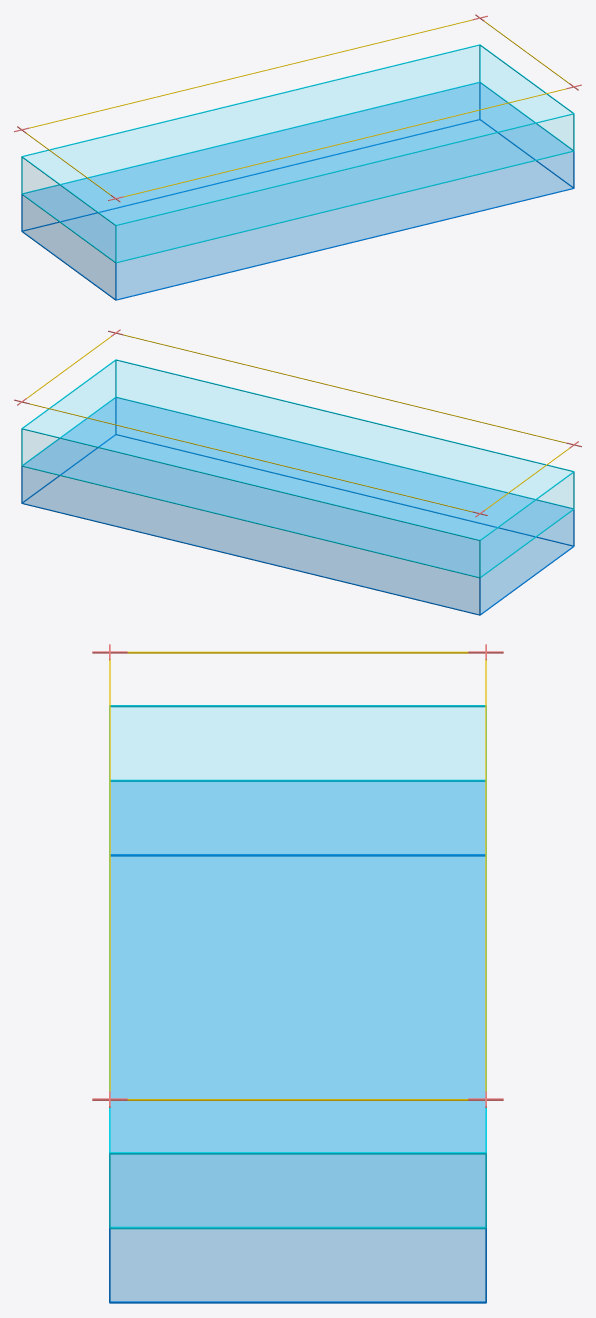
Rendered from underground_45x16_marker.glb.
3 views of the same model, one above another, from view 1: azimuth 30°, elevation 25°; view 2: azimuth 150°, elevation 25°; view 3: azimuth 270°, elevation 25° (orthographic). The views are drawn at different scales.
Parts seen in each view (by area): view 1: lower_volume, upper_volume, upper_frame_x_3, upper_frame_x_1, upper_frame_x_2, lower_frame_x_1, upper_frame_x_0, lower_frame_x_0, ground_south, ground_north; view 2: lower_volume, upper_volume, upper_frame_x_2, upper_frame_x_0, upper_frame_x_3, lower_frame_x_0, upper_frame_x_1, lower_frame_x_1, ground_north, ground_south; view 3: upper_volume, lower_volume, upper_frame_z_10, upper_frame_z_11, lower_frame_z_10, upper_frame_z_8, upper_frame_z_9, lower_frame_z_8, ground_west, ground_north, ground_south.
Boxes of the visible parts, <box> form: lower_volume: <box>22,83,573,298</box>; upper_volume: <box>22,46,572,261</box>; upper_frame_x_3: <box>116,113,574,225</box>; upper_frame_x_1: <box>116,150,574,262</box>; upper_frame_x_2: <box>22,44,479,156</box>; lower_frame_x_1: <box>116,188,574,300</box>; upper_frame_x_0: <box>22,81,479,193</box>; lower_frame_x_0: <box>23,119,479,231</box>; ground_south: <box>123,88,566,197</box>; ground_north: <box>30,19,472,128</box>; lower_volume: <box>22,398,573,613</box>; upper_volume: <box>23,361,573,576</box>; upper_frame_x_2: <box>21,428,479,540</box>; upper_frame_x_0: <box>21,465,479,577</box>; upper_frame_x_3: <box>116,359,573,471</box>; lower_frame_x_0: <box>21,503,479,615</box>; upper_frame_x_1: <box>116,396,573,508</box>; lower_frame_x_1: <box>116,434,572,546</box>; ground_north: <box>29,403,472,512</box>; ground_south: <box>123,334,565,443</box>; upper_volume: <box>111,707,484,1226</box>; lower_volume: <box>111,781,484,1301</box>; upper_frame_z_10: <box>110,1226,485,1229</box>; upper_frame_z_11: <box>110,1152,485,1154</box>; lower_frame_z_10: <box>110,1301,485,1303</box>; upper_frame_z_8: <box>110,779,485,781</box>; upper_frame_z_9: <box>110,705,485,707</box>; lower_frame_z_8: <box>110,854,485,856</box>; ground_west: <box>127,651,468,653</box>; ground_north: <box>485,659,486,1091</box>; ground_south: <box>109,659,110,1091</box>.
Size of the model in its own units: 46.5 by 9.6 by 17.5.
